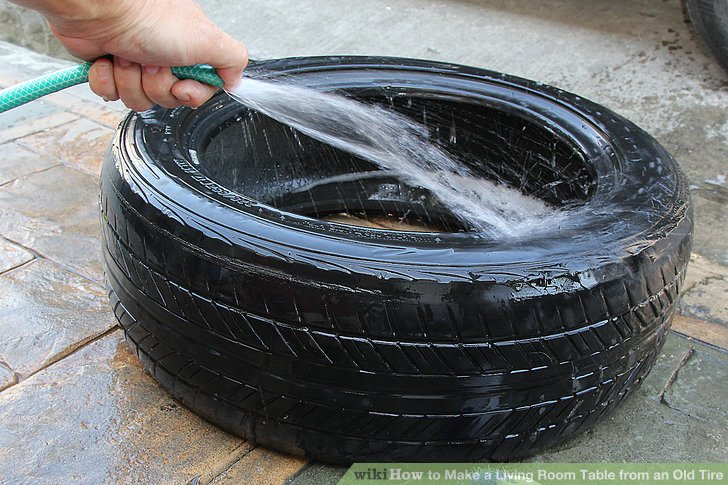tire: (96, 57, 692, 466)
